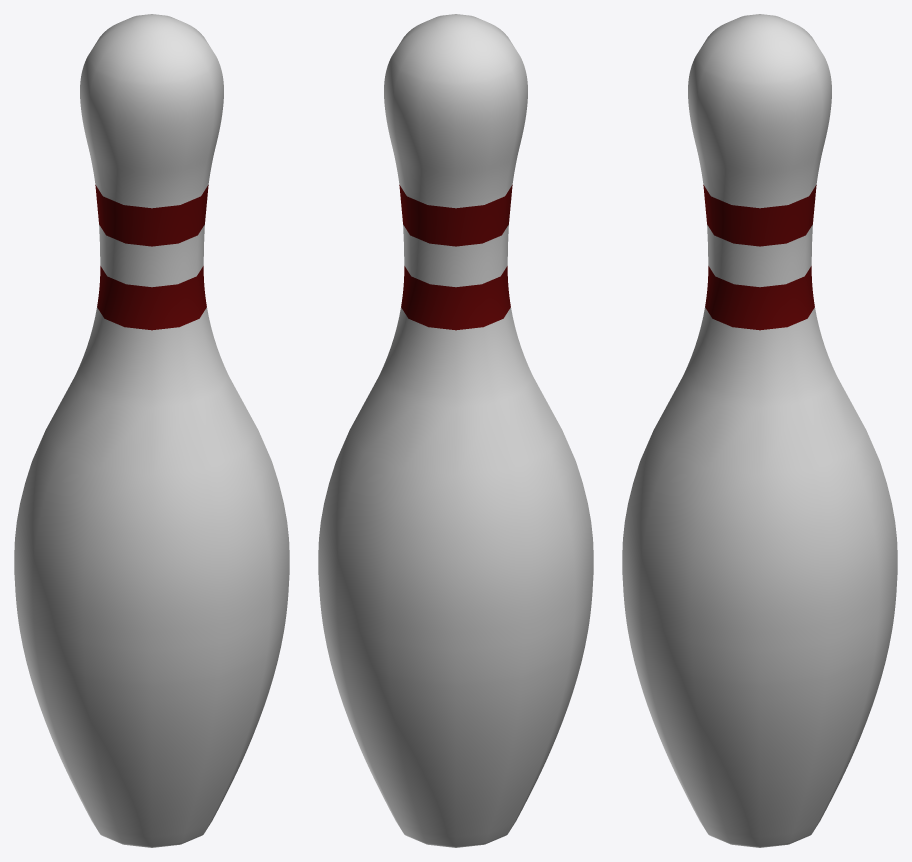
File: bowling.fbx
The picture shows the model from 3 angles, left to right: view 1: azimuth 30°, elevation 25°; view 2: azimuth 150°, elevation 25°; view 3: azimuth 270°, elevation 25°; orthographic projection.
Visible parts, largest first — view 1: Line076; view 2: Line076; view 3: Line076.
Part boxes in pixels (left/top/right/bottom): Line076: left=14, top=14, right=289, bottom=847; Line076: left=318, top=14, right=593, bottom=847; Line076: left=622, top=14, right=897, bottom=847.
Bounding box in the file's own units: 4.74 × 15.28 × 4.74.
